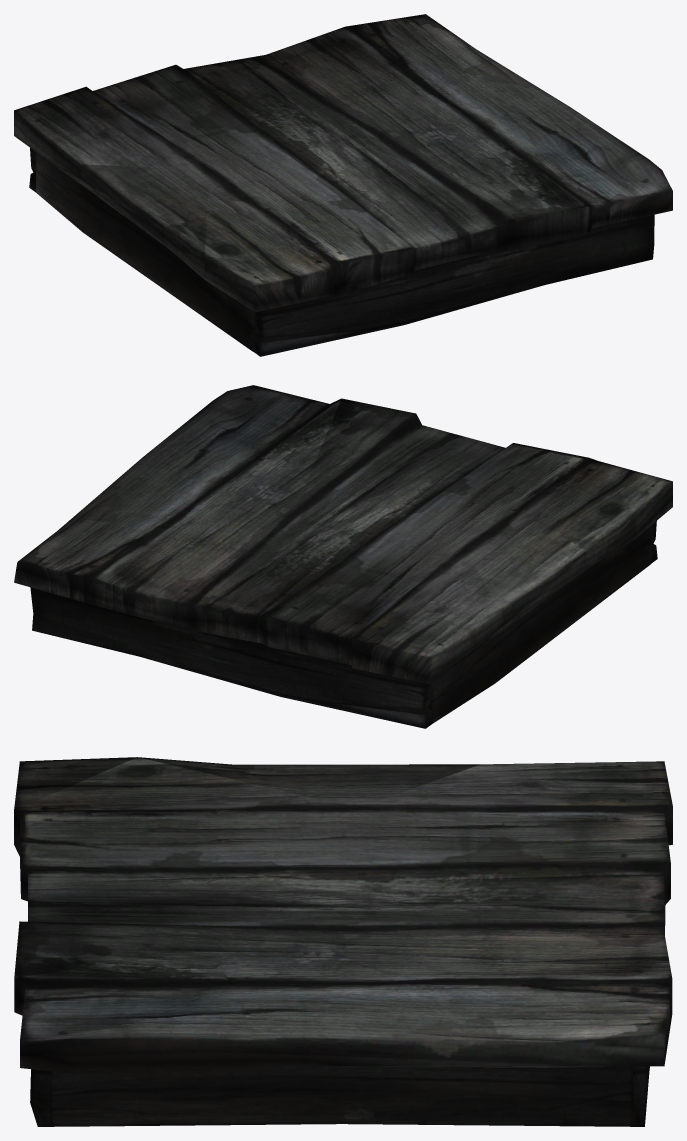
File: Chapter1_L1_Minge04_PlatformWooden_4.obj
3 views of the same model, one above another, from view 1: azimuth 30°, elevation 25°; view 2: azimuth 150°, elevation 25°; view 3: azimuth 270°, elevation 25° (orthographic). The views are drawn at different scales.
Parts seen in each view (by area): view 1: PlatformWooden; view 2: PlatformWooden; view 3: PlatformWooden.
Boxes of the visible parts, <box> form: PlatformWooden: <box>14,14,672,356</box>; PlatformWooden: <box>14,385,672,728</box>; PlatformWooden: <box>14,757,672,1126</box>.
Size of the model in its own units: 133 by 24.18 by 131.
Materials: 1 (1 with a texture image).
